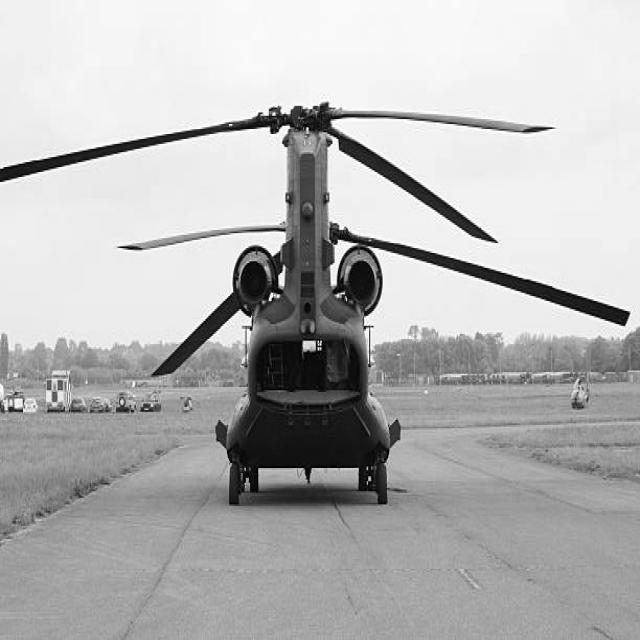Helicopter: (137, 105, 629, 504)
